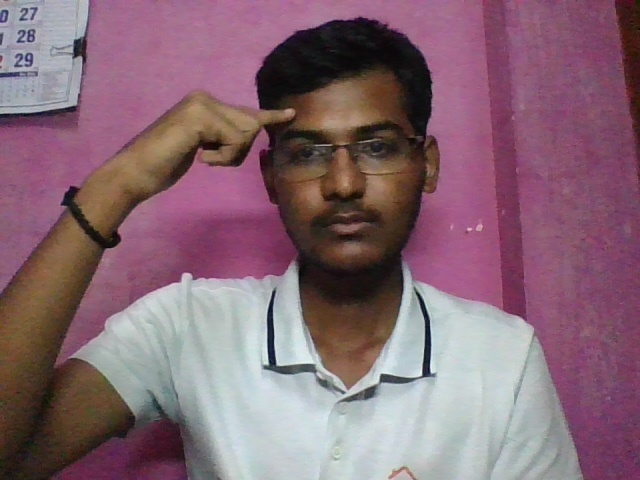Hello: (86, 82, 306, 238)
